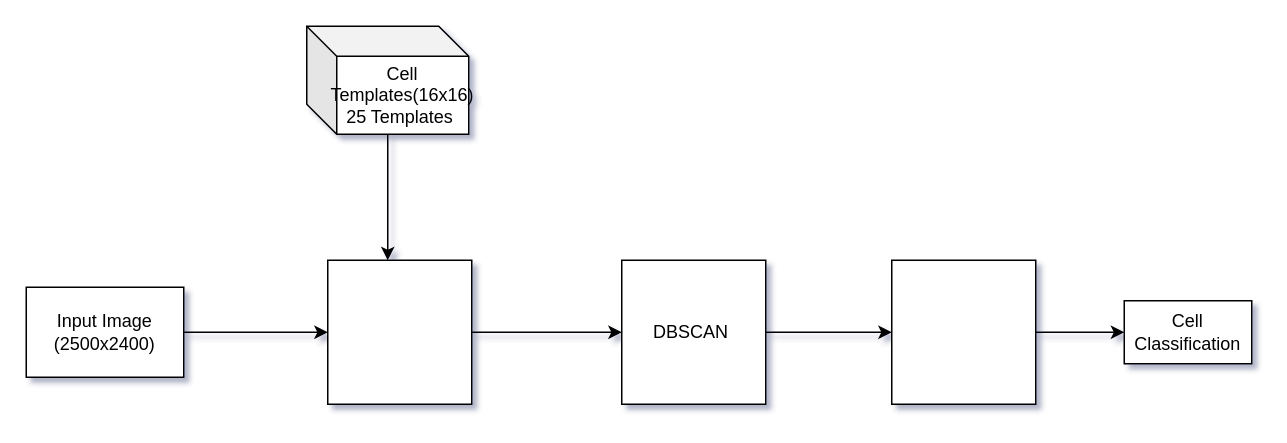
Some shapes in this 1287 by 443 pixel diagram are drawn without their labels. Here are the shapes that lost their labels. From the top down, the centre of each, then its label:
At [399,331]: "Template Matching with Non-Max Supression".
At [963,331]: "Deep Neural network (ResNet18)".
